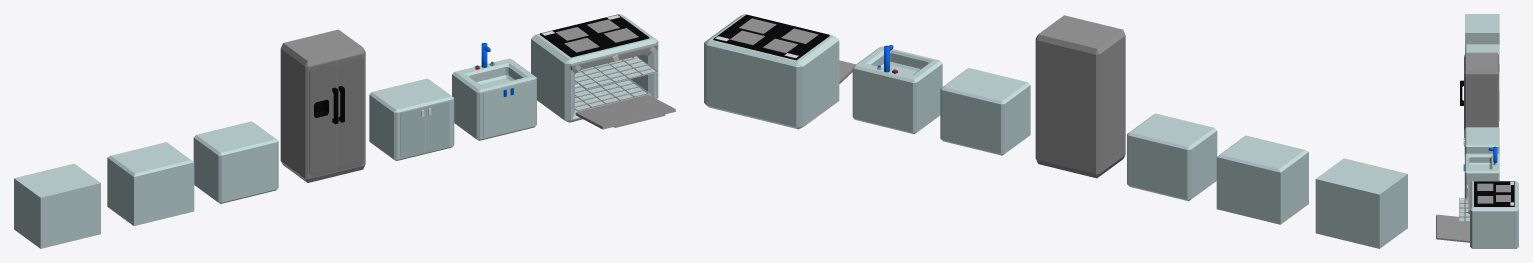
File: KitchenAssets1.fbx
The picture shows the model from 3 angles, left to right: view 1: azimuth 30°, elevation 25°; view 2: azimuth 150°, elevation 25°; view 3: azimuth 270°, elevation 25°; orthographic projection. The views are drawn at different scales.
Parts seen in each view (by area): view 1: Cube, Cube.020, BaseUnbeveled, Base1, Cube.018, Cube.028, Base; view 2: Cube.020, Cube, BaseUnbeveled, Base1, Cube.028, Cube.018, Base; view 3: Cube, Cube.020, Cube.018, BaseUnbeveled, Cube.028, Base1.
Part boxes in pixels (box(x1,y1,x2,y2)): Cube: box(531, 14, 675, 129); Cube.020: box(280, 29, 365, 182); BaseUnbeveled: box(14, 163, 100, 248); Base1: box(107, 142, 194, 225); Cube.018: box(452, 43, 536, 140); Cube.028: box(369, 78, 454, 160); Base: box(193, 121, 278, 203); Cube.020: box(1035, 15, 1125, 178); Cube: box(704, 14, 855, 129); BaseUnbeveled: box(1315, 158, 1407, 248); Base1: box(1216, 135, 1308, 224); Cube.028: box(940, 68, 1030, 155); Cube.018: box(852, 45, 942, 133); Base: box(1127, 113, 1217, 201); Cube: box(1436, 181, 1518, 248); Cube.020: box(1460, 52, 1498, 146); Cube.018: box(1463, 146, 1499, 199); BaseUnbeveled: box(1465, 14, 1499, 44); Cube.028: box(1463, 127, 1499, 156); Base1: box(1465, 44, 1499, 72).
Size of the model in its own units: 3832 by 767 by 677.
